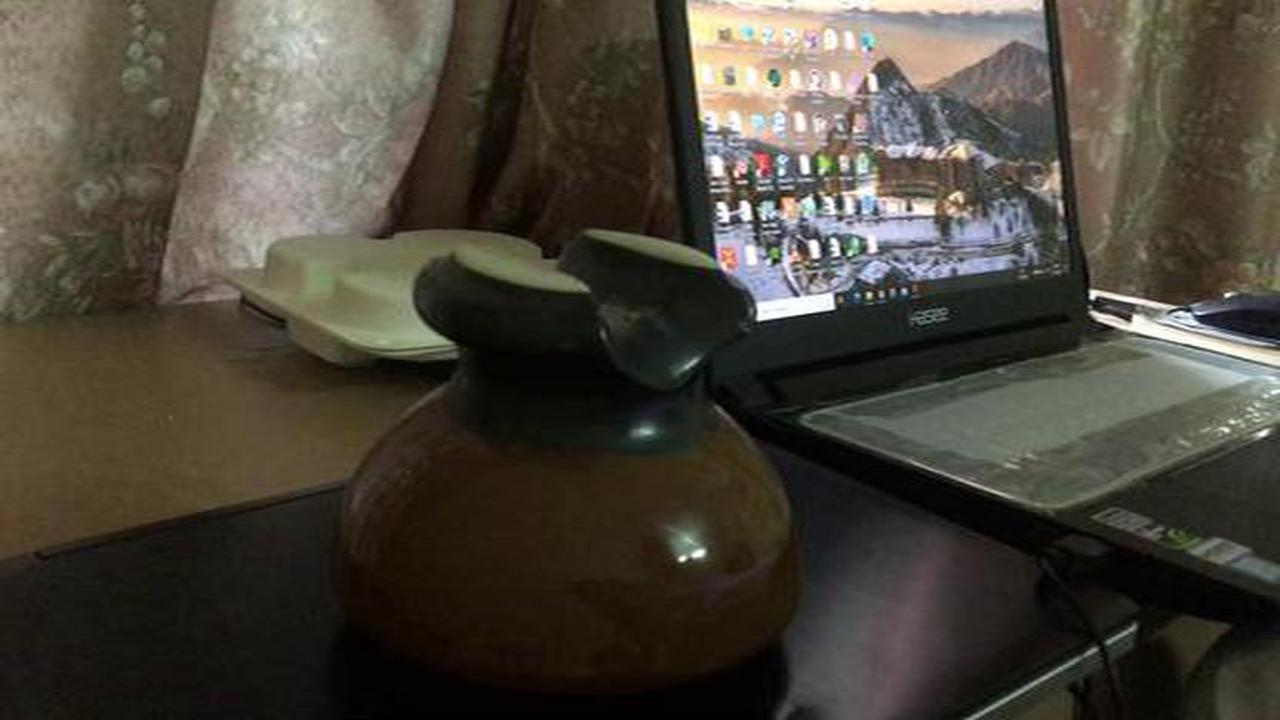insulator_pin: (317, 208, 828, 703)
